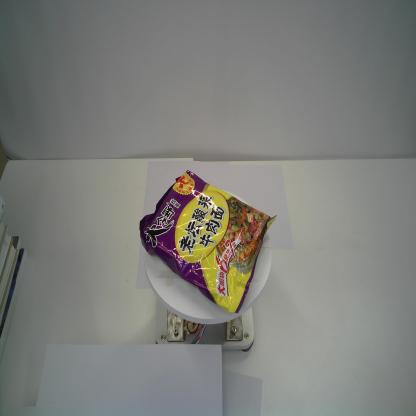Instant Noodles: (138, 169, 277, 315)
